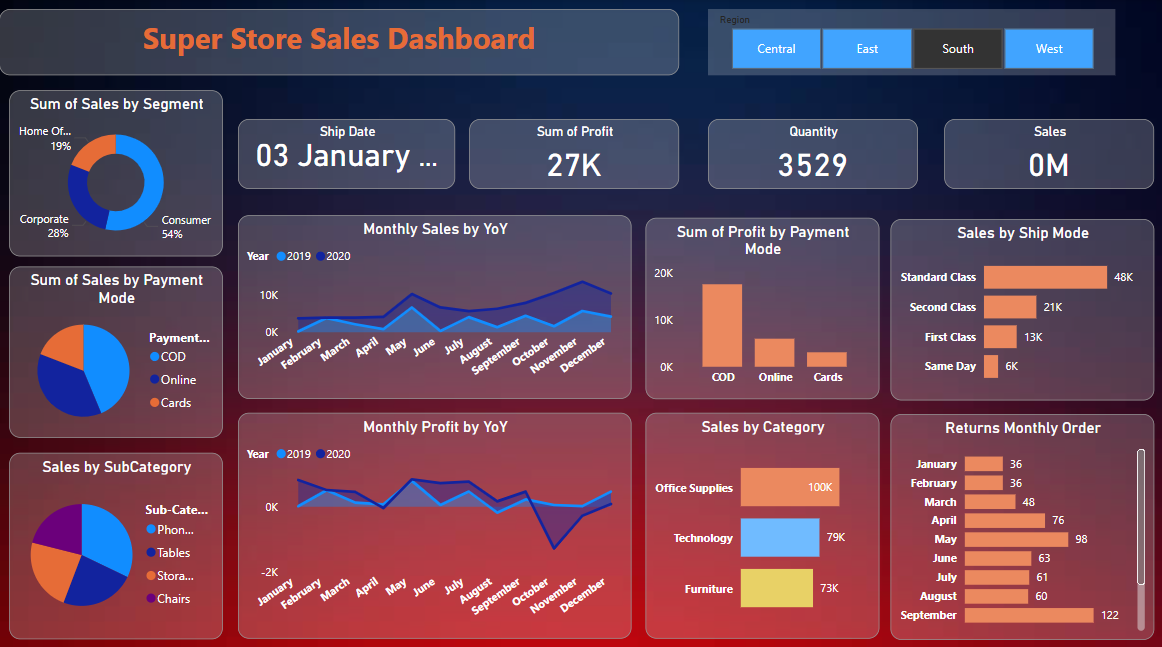

The page's visual inventory and layout, read from the dashboard file:
{"tool":"powerbi","page":{"name":"Page 1","canvas":[1280,720],"ordinal":0},"visuals":[{"type":"clusteredBarChart","title":"Sales by Category","fields":{"Category":["SuperStore_Sales_Dataset.Category"],"Y":["Sum(SuperStore_Sales_Dataset.Sales)"]},"box":[710.8,454.2,256.6,248.4],"z":0},{"type":"stackedAreaChart","title":"Monthly Sales by YoY","fields":{"Y":["Sum(SuperStore_Sales_Dataset.Sales)"],"Category":["SuperStore_Sales_Dataset.Order Date.Variation.Date Hierarchy.Month","SuperStore_Sales_Dataset.Order Date.Variation.Date Hierarchy.Day"],"Series":["SuperStore_Sales_Dataset.Order Date.Variation.Date Hierarchy.Year"]},"box":[263.5,237.4,432.2,201.7],"z":1000},{"type":"donutChart","title":"Sum of Sales by Segment","fields":{"Category":["SuperStore_Sales_Dataset.Segment"],"Y":["Sum(SuperStore_Sales_Dataset.Sales)"]},"box":[12.3,100.2,234.6,182.5],"z":2000},{"type":"barChart","title":"Returns Monthly Order","fields":{"Y":["CountNonNull(SuperStore_Sales_Dataset.Returns)"],"Category":["SuperStore_Sales_Dataset.Order Date.Variation.Date Hierarchy.Month","SuperStore_Sales_Dataset.Order Date.Variation.Date Hierarchy.Day"]},"box":[979.8,455.6,289.5,248.4],"z":3000},{"type":"stackedAreaChart","title":"Monthly Profit by YoY","fields":{"Category":["SuperStore_Sales_Dataset.Order Date.Variation.Date Hierarchy.Month","SuperStore_Sales_Dataset.Order Date.Variation.Date Hierarchy.Day"],"Series":["SuperStore_Sales_Dataset.Order Date.Variation.Date Hierarchy.Year"],"Y":["Sum(SuperStore_Sales_Dataset.Profit)"]},"box":[263.5,454.2,432.2,248.4],"z":4000},{"type":"clusteredBarChart","title":"Sales by Ship Mode","fields":{"Category":["SuperStore_Sales_Dataset.Ship Mode"],"Y":["Sum(SuperStore_Sales_Dataset.Sales)"]},"box":[979.8,241.5,289.5,199],"z":5000},{"type":"columnChart","fields":{"Category":["SuperStore_Sales_Dataset.Payment Mode"],"Y":["Sum(SuperStore_Sales_Dataset.Profit)"]},"box":[710.8,240.1,256.6,199],"z":6000},{"type":"pieChart","fields":{"Category":["SuperStore_Sales_Dataset.Payment Mode"],"Y":["Sum(SuperStore_Sales_Dataset.Sales)"]},"box":[12.3,293.7,234.6,188],"z":7000},{"type":"slicer","fields":{"Values":["SuperStore_Sales_Dataset.Region"]},"box":[779.4,11,447.3,72.7],"z":8000},{"type":"textbox","box":[1.4,11,746.5,72.7],"z":9000},{"type":"card","title":"Sales","fields":{"Values":["Sum(SuperStore_Sales_Dataset.Sales)"]},"box":[1038.8,131.7,230.5,76.8],"z":10000},{"type":"card","title":"Quantity","fields":{"Values":["Sum(SuperStore_Sales_Dataset.Quantity)"]},"box":[779.4,131.7,230.5,76.8],"z":11000},{"type":"card","title":"Sum of Profit","fields":{"Values":["Sum(SuperStore_Sales_Dataset.Profit)"]},"box":[517.3,131.7,230.5,76.8],"z":12000},{"type":"card","title":"Ship Date","fields":{"Values":["Max(SuperStore_Sales_Dataset.Ship Date)"]},"box":[263.5,131.7,238.8,76.8],"z":13000},{"type":"pieChart","title":"Sales by SubCategory","fields":{"Y":["Sum(SuperStore_Sales_Dataset.Sales)","Sum(SuperStore_Sales_Dataset.Sales)"],"Category":["SuperStore_Sales_Dataset.Sub-Category"]},"box":[12.3,498.1,234.6,204.5],"z":14000}]}

Visuals, with their boxes in screenshot pixels (x1, y1, x2, y2), scaled from the page's 1280x720 canvas onto the 1162x647 screenshot:
"Sales by Category" clusteredBarChart: box=[645, 408, 878, 631]
"Monthly Sales by YoY" stackedAreaChart: box=[239, 213, 632, 395]
"Sum of Sales by Segment" donutChart: box=[11, 90, 224, 254]
"Returns Monthly Order" barChart: box=[889, 409, 1152, 633]
"Monthly Profit by YoY" stackedAreaChart: box=[239, 408, 632, 631]
"Sales by Ship Mode" clusteredBarChart: box=[889, 217, 1152, 396]
columnChart - SuperStore_Sales_Dataset.Payment Mode x Sum(SuperStore_Sales_Dataset.Profit): box=[645, 216, 878, 395]
pieChart - SuperStore_Sales_Dataset.Payment Mode x Sum(SuperStore_Sales_Dataset.Sales): box=[11, 264, 224, 433]
slicer - SuperStore_Sales_Dataset.Region: box=[708, 10, 1114, 75]
textbox: box=[1, 10, 679, 75]
"Sales" card: box=[943, 118, 1152, 187]
"Quantity" card: box=[708, 118, 917, 187]
"Sum of Profit" card: box=[470, 118, 679, 187]
"Ship Date" card: box=[239, 118, 456, 187]
"Sales by SubCategory" pieChart: box=[11, 448, 224, 631]
